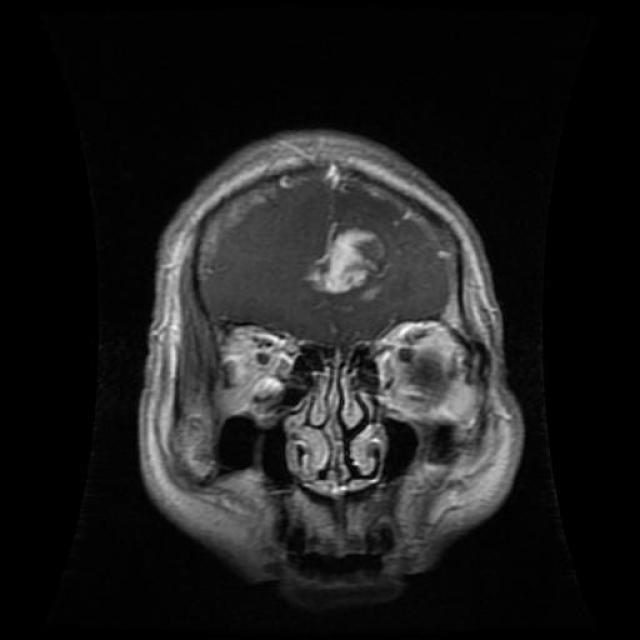glioma: (315, 216, 393, 309)
